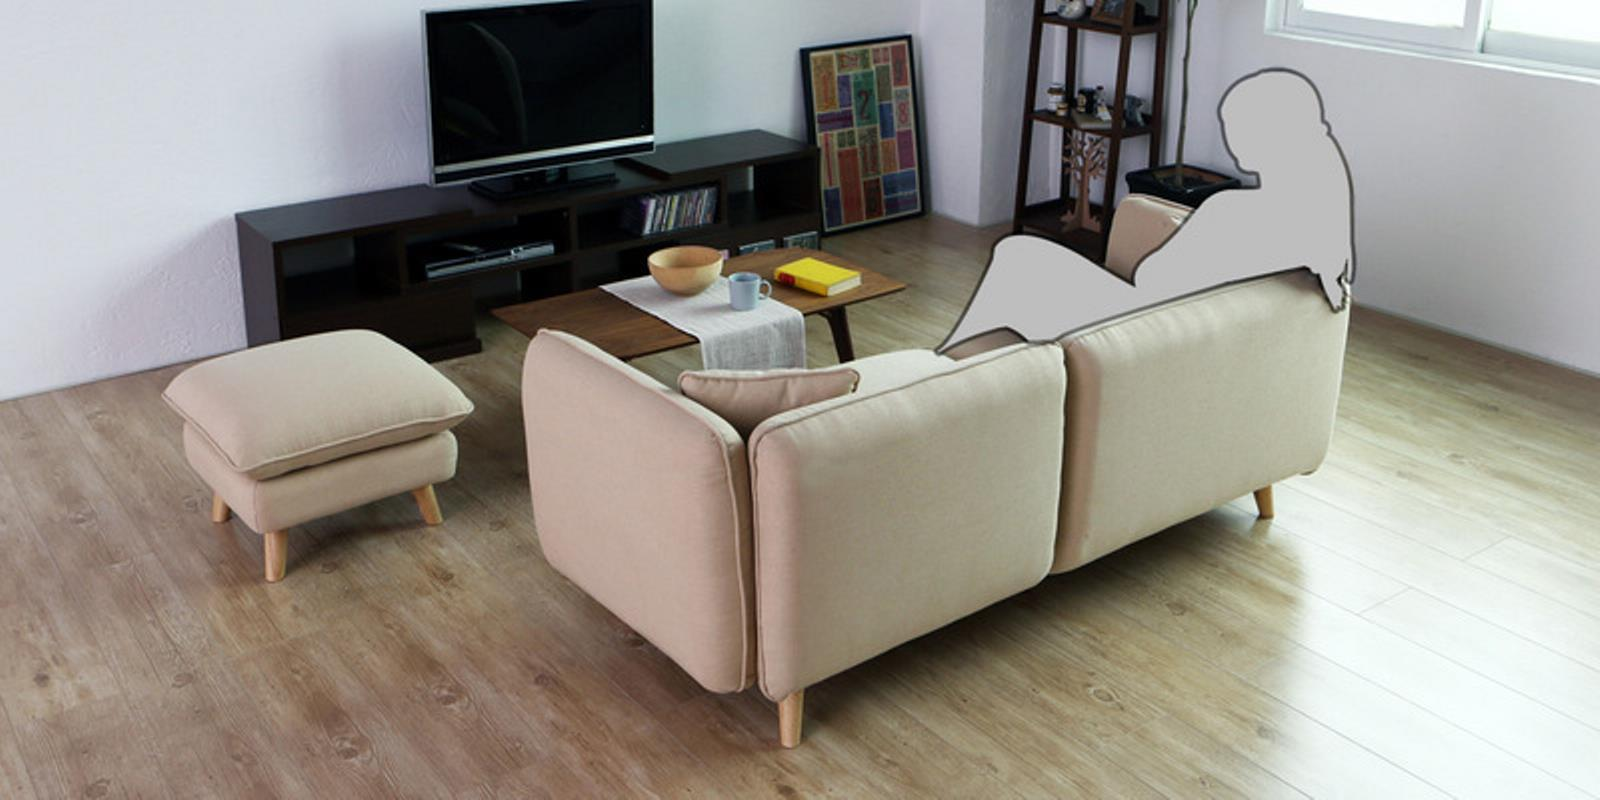Gloria Three Seater Sofa with Ottoman in Beige Colour by CasaCraft: (502, 190, 1384, 756), (157, 322, 466, 589)
